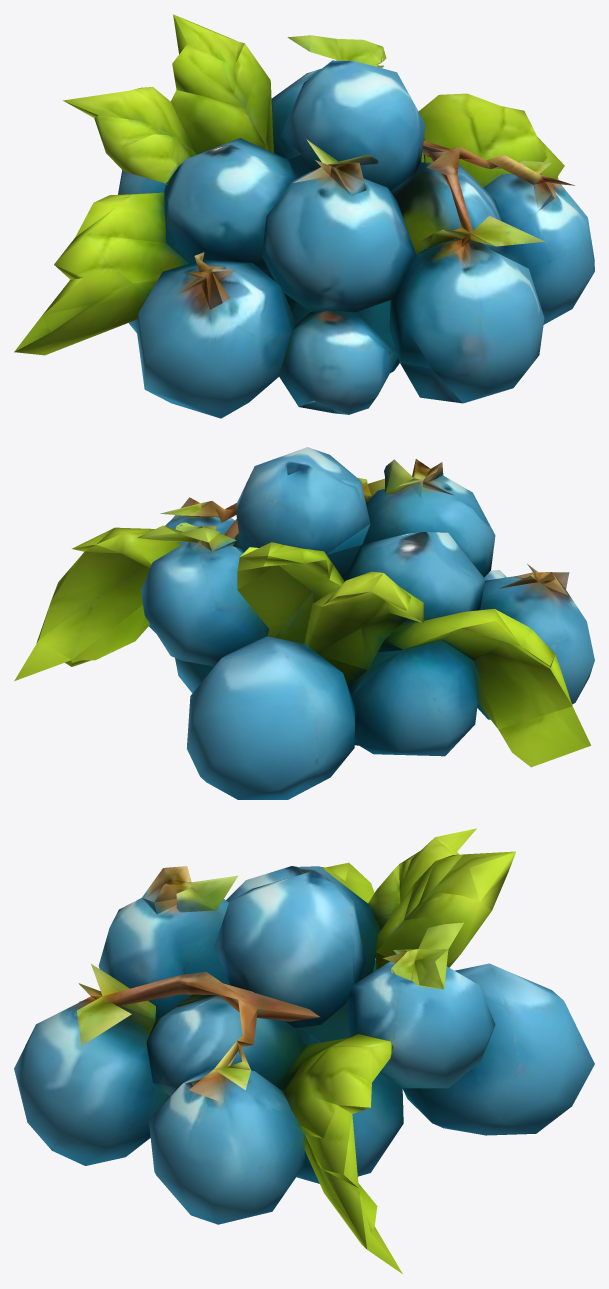
Rendered from berryBunch.glb.
3 renders of one model, top to bottom at view 1: azimuth 30°, elevation 25°; view 2: azimuth 150°, elevation 25°; view 3: azimuth 270°, elevation 25°, orthographic. The views are drawn at different scales.
Parts seen in each view (by area): view 1: model; view 2: model; view 3: model.
Part boxes in pixels (x1=…): model: x1=14, y1=14, x2=594, y2=418; model: x1=14, y1=447, x2=594, y2=799; model: x1=14, y1=828, x2=594, y2=1273.
Bounding box in the file's own units: 1.91 × 0.8284 × 1.63.
1 material, 1 textured.
